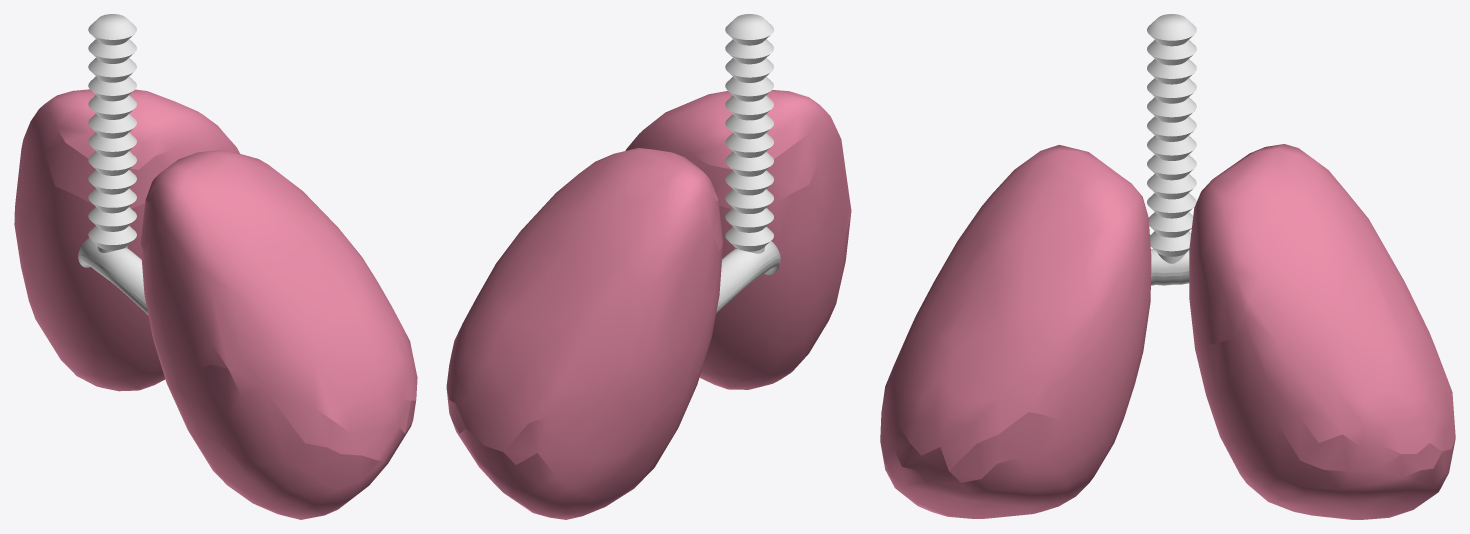
File: Lungs.glb
The picture shows the model from 3 angles, left to right: view 1: azimuth 30°, elevation 25°; view 2: azimuth 150°, elevation 25°; view 3: azimuth 270°, elevation 25°; orthographic projection. The views are drawn at different scales.
Parts seen in each view (by area): view 1: Cylinder.001; view 2: Cylinder.001; view 3: Cylinder.001.
Part boxes in pixels (x1,y1,x2,y2): Cylinder.001: [14, 14, 417, 519]; Cylinder.001: [446, 14, 851, 519]; Cylinder.001: [880, 14, 1455, 519].
Bounding box in the file's own units: 1.47 × 2.76 × 3.16.
